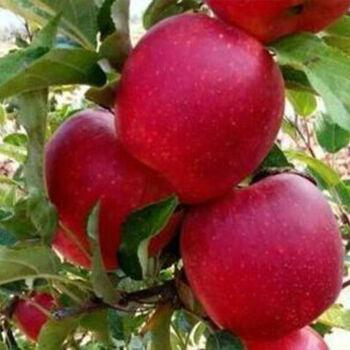apple: (117, 15, 289, 201), (174, 173, 348, 340), (38, 108, 184, 271)
